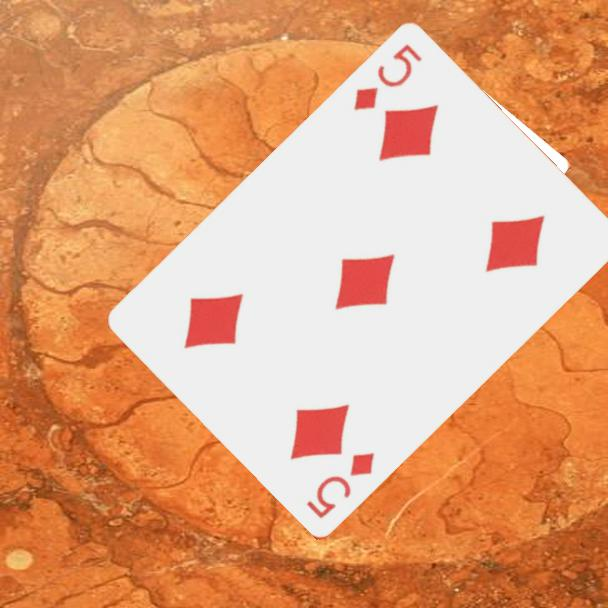d05: (350, 41, 426, 115), (302, 449, 378, 522)
